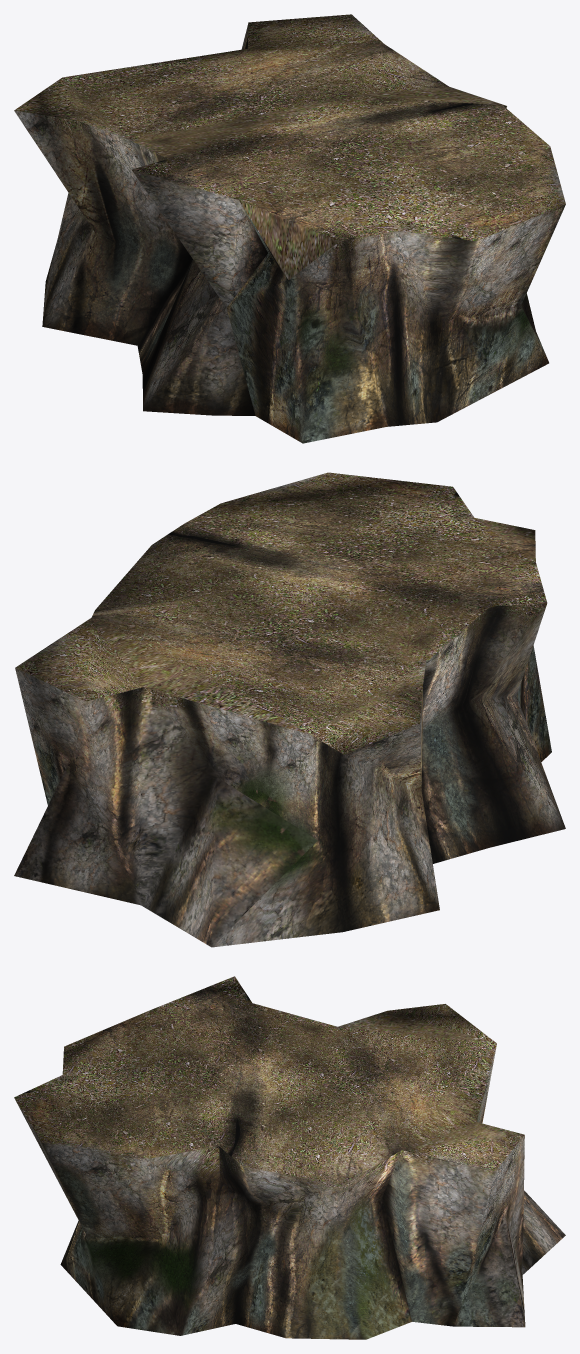
The model's file is rock_003_LOD.fbx.
3 renders of one model, top to bottom at view 1: azimuth 30°, elevation 25°; view 2: azimuth 150°, elevation 25°; view 3: azimuth 270°, elevation 25°, orthographic. The views are drawn at different scales.
Parts seen in each view (by area): view 1: rock_003_LOD3; view 2: rock_003_LOD3; view 3: rock_003_LOD3.
Part boxes in pixels (x1,y1,x2,y2): rock_003_LOD3: (14,14,565,443); rock_003_LOD3: (14,472,565,947); rock_003_LOD3: (14,976,565,1339).
Size of the model in its own units: 1288 by 734 by 1829.
Materials: 1 (1 with a texture image).
